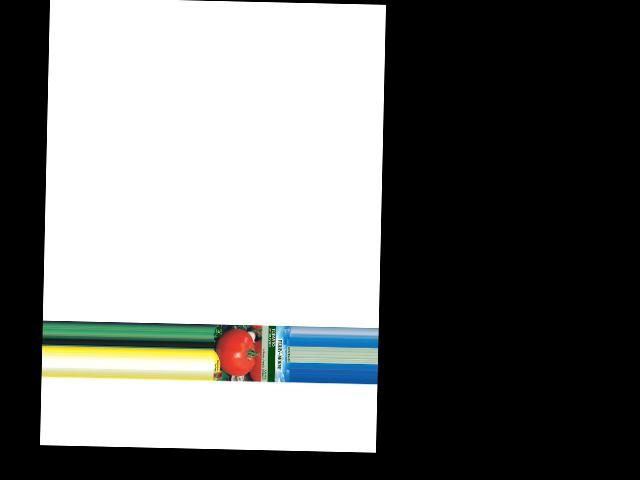tomato: (214, 328, 255, 376)
